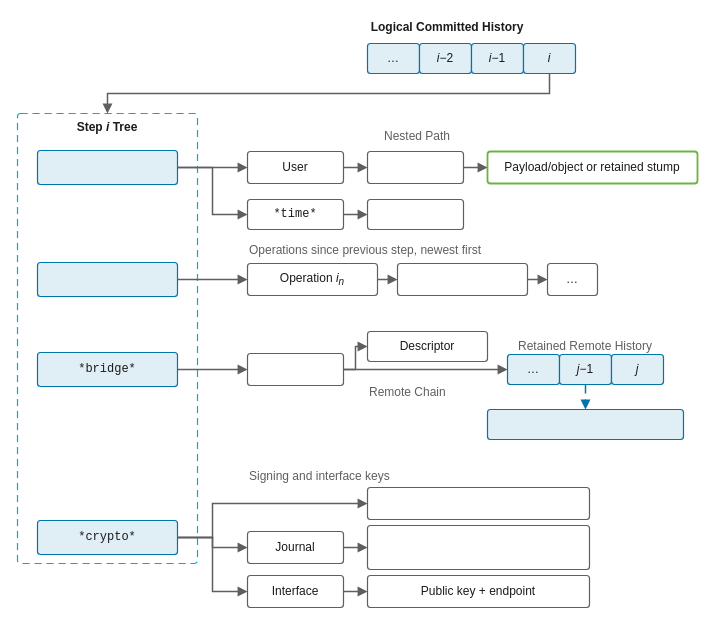
This 716x625 diagram has some shape labels left out. Each missing label, with the centre of its shape:
"*state*" goes at (x=107, y=167).
"*transition*" goes at (x=107, y=279).
"Bridge Alias" goes at (x=295, y=369).
"Directory" goes at (x=415, y=167).
"Key-derivation salt + key lineage + public key + signature" goes at (x=478, y=547).
"Operation i n −1" goes at (x=462, y=279).
"Public key + signature" goes at (x=478, y=503).
"Step j may retain other heads" goes at (x=585, y=424).
"UTC Value" goes at (x=415, y=214).
